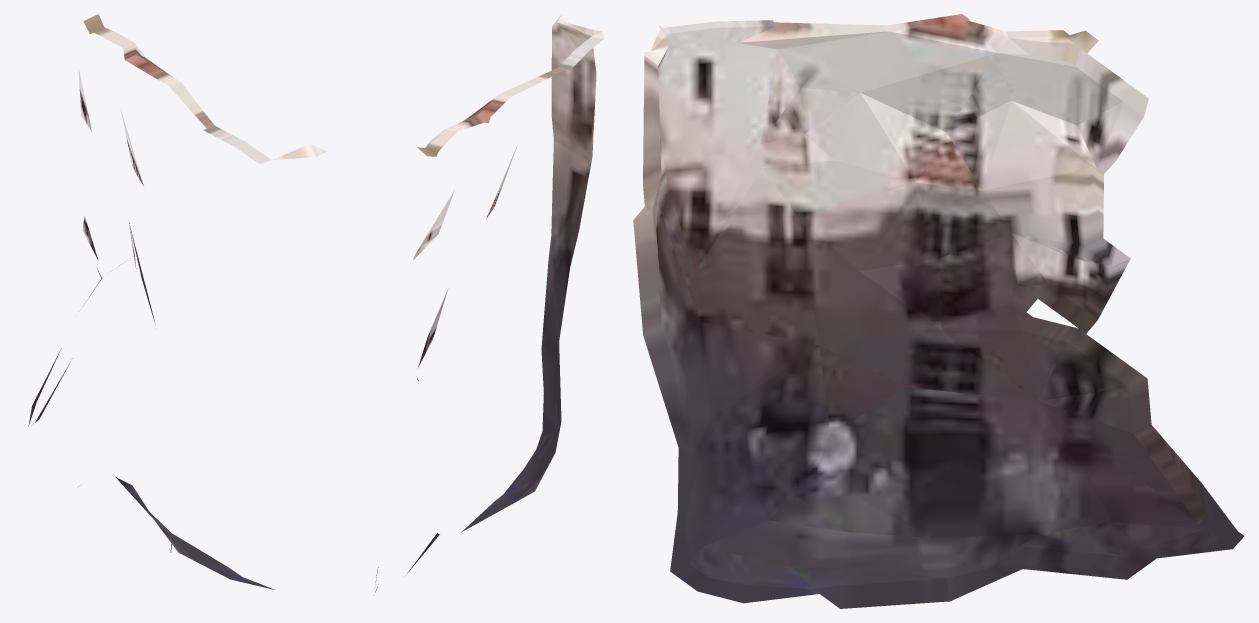
3 renders of one model, left to right at view 1: azimuth 30°, elevation 25°; view 2: azimuth 150°, elevation 25°; view 3: azimuth 270°, elevation 25°, orthographic. The views are drawn at different scales.
Visible parts, largest first — view 1: Mesh_0; view 2: Mesh_0; view 3: Mesh_0.
Part boxes in pixels (x1,y1,x2,y2): Mesh_0: (28,14,326,589); Mesh_0: (373,15,604,595); Mesh_0: (633,14,1244,608).
Size of the model in its own units: 2.65 by 17.29 by 16.86.
1 material, 1 textured.
